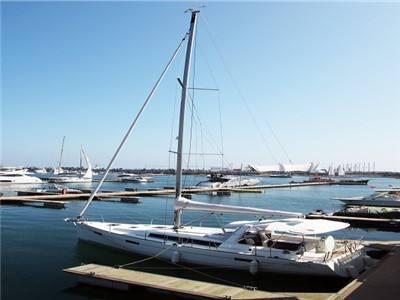otherboat: (65, 200, 365, 277)
